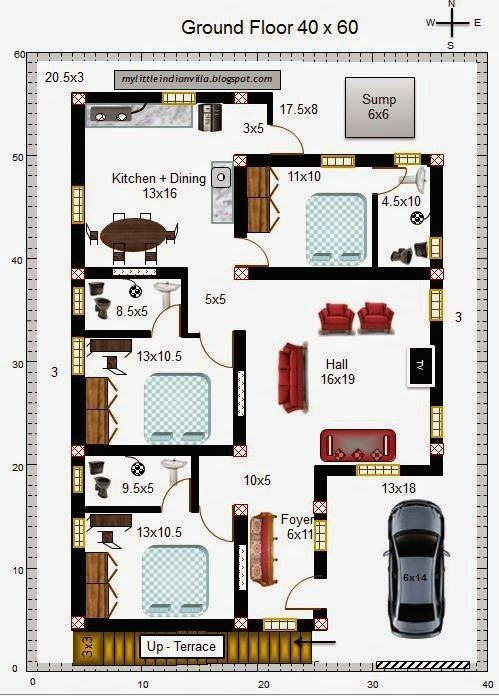room: (233, 267, 442, 476), (69, 91, 248, 280), (232, 153, 444, 281), (72, 330, 247, 456), (71, 507, 247, 631), (71, 266, 188, 338)
